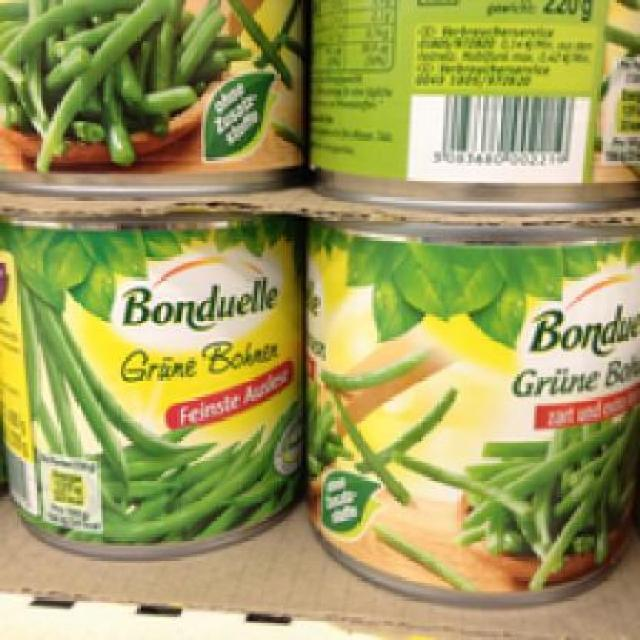Beans: (294, 208, 634, 606), (0, 214, 300, 557), (310, 0, 635, 212), (0, 0, 303, 186)
